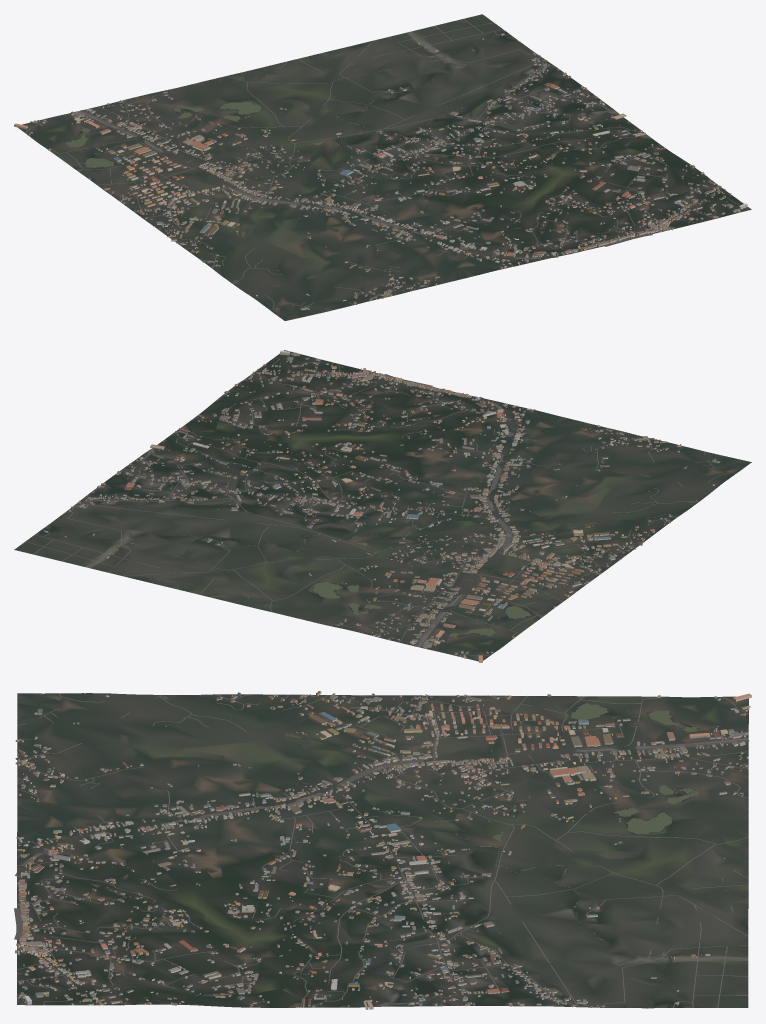
3 views of the same model, one above another, from view 1: azimuth 30°, elevation 25°; view 2: azimuth 150°, elevation 25°; view 3: azimuth 270°, elevation 25° (orthographic). The views are drawn at different scales.
Parts seen in each view (by area): view 1: ground, buildings, roads, water; view 2: ground, buildings, roads, water; view 3: ground, buildings, roads, water.
Part boxes in pixels (bbox=[...]): ground: bbox=[18, 14, 751, 320]; buildings: bbox=[14, 33, 747, 310]; roads: bbox=[26, 19, 749, 310]; water: bbox=[65, 37, 520, 236]; ground: bbox=[14, 350, 751, 661]; buildings: bbox=[44, 350, 719, 662]; roads: bbox=[25, 353, 735, 655]; water: bbox=[51, 521, 593, 638]; ground: bbox=[17, 693, 748, 1008]; buildings: bbox=[15, 691, 751, 1009]; roads: bbox=[14, 693, 749, 1007]; water: bbox=[286, 703, 702, 1008].
Size of the model in its own units: 2837 by 41.22 by 2829.
